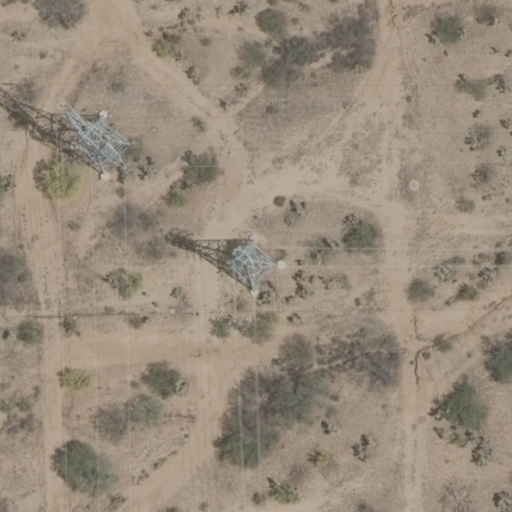TT: (45, 87, 144, 192), (213, 228, 288, 303)
